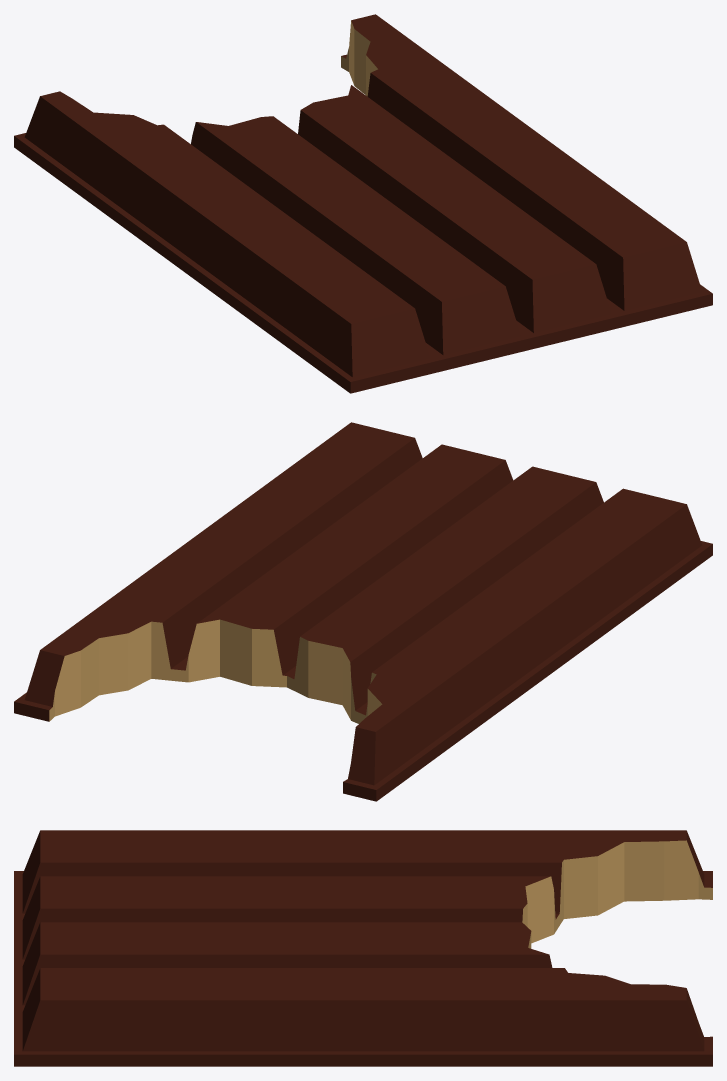
Rendered from BitBat3.fbx.
3 renders of one model, top to bottom at view 1: azimuth 30°, elevation 25°; view 2: azimuth 150°, elevation 25°; view 3: azimuth 270°, elevation 25°, orthographic. The views are drawn at different scales.
Visible parts, largest first — view 1: Cube.005; view 2: Cube.005; view 3: Cube.005.
Boxes of the visible parts, bbox=[...] form: Cube.005: bbox=[14, 14, 712, 393]; Cube.005: bbox=[14, 422, 712, 801]; Cube.005: bbox=[14, 830, 712, 1066].
Size of the model in its own units: 575 by 86.75 by 925.
